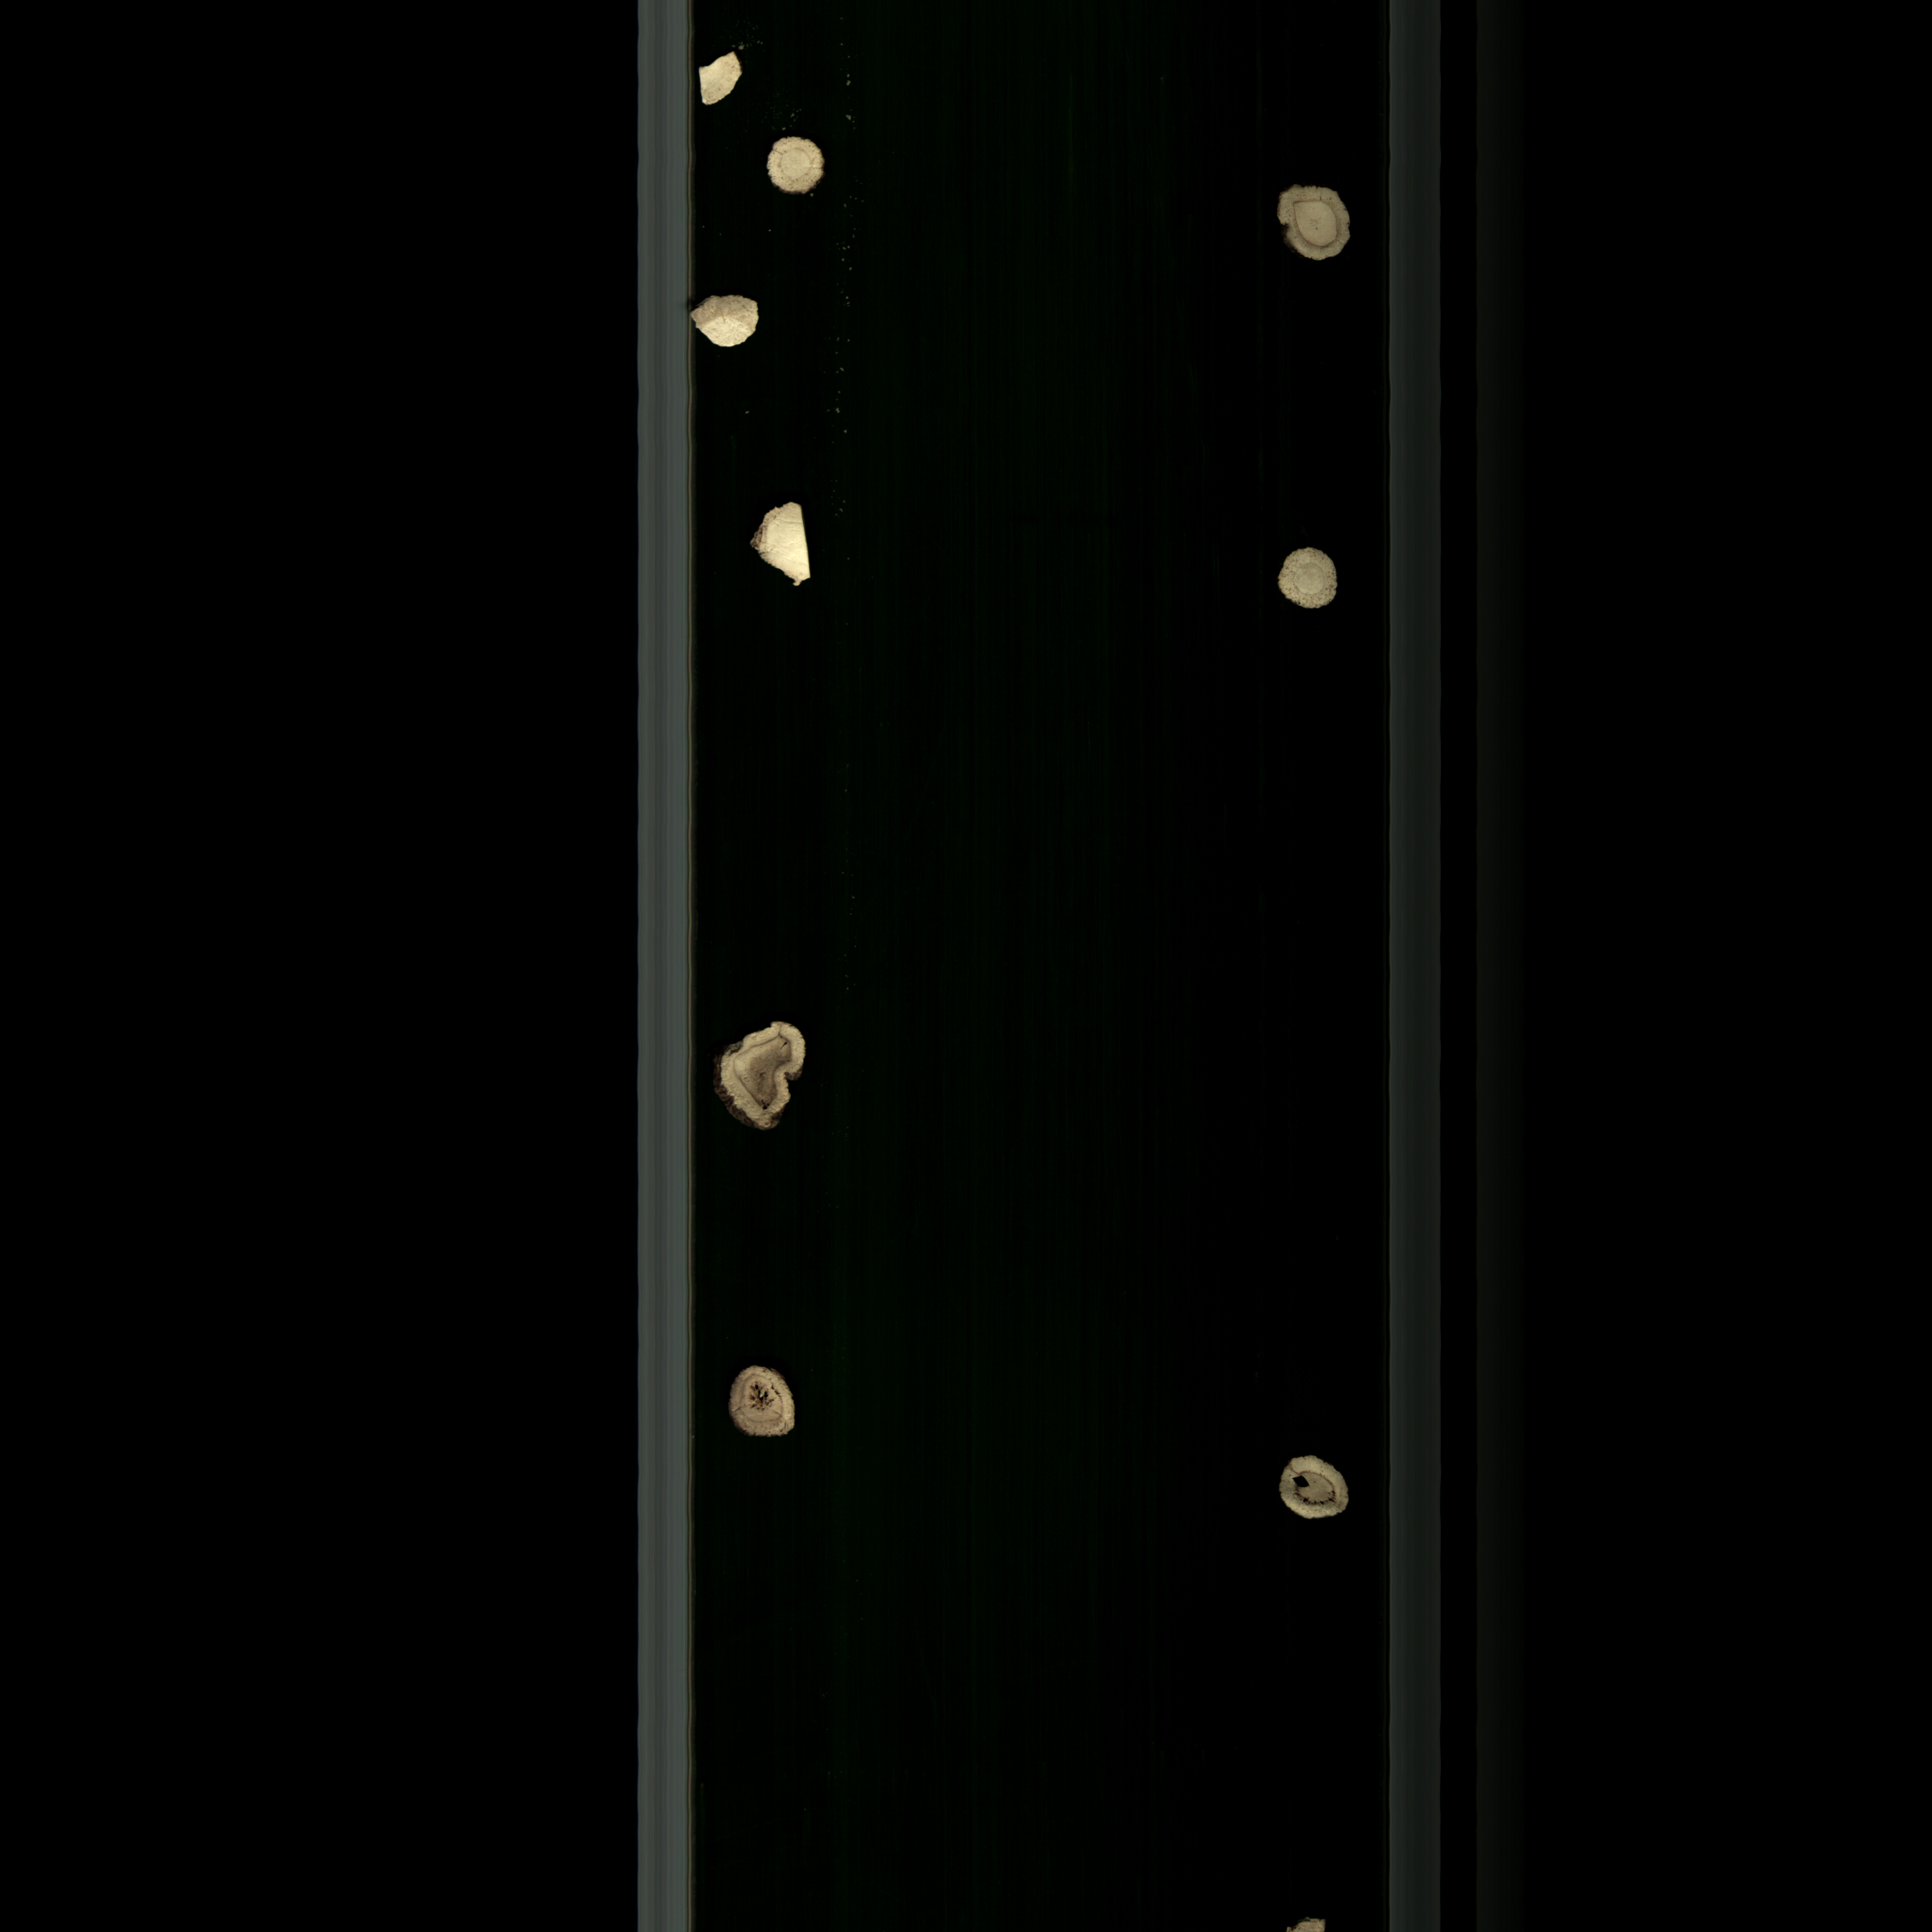debris: (745, 492, 824, 586), (688, 288, 773, 354), (699, 51, 752, 110)
moldy: (713, 1021, 826, 1138), (1269, 179, 1362, 271), (1267, 1444, 1355, 1532), (724, 1366, 814, 1451)
